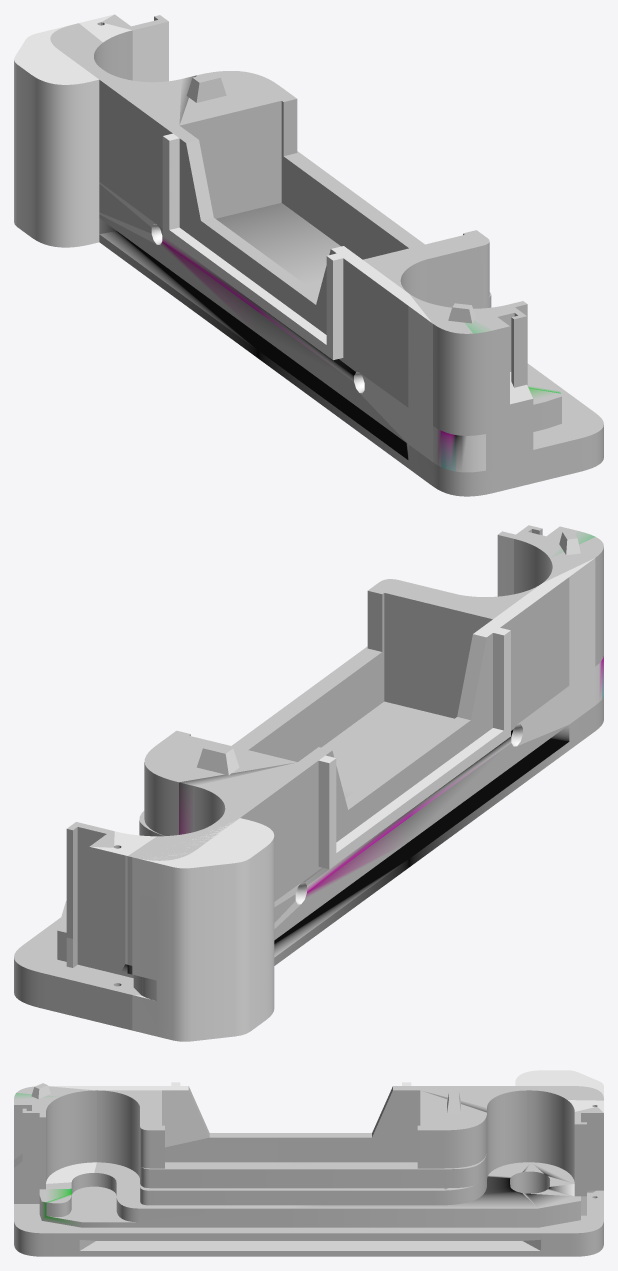
The model's file is BODY_bottom_ver2.FBX.
The picture shows the model from 3 angles, top to bottom: view 1: azimuth 30°, elevation 25°; view 2: azimuth 150°, elevation 25°; view 3: azimuth 270°, elevation 25°; orthographic projection. The views are drawn at different scales.
Parts seen in each view (by area): view 1: Main Body Bottom_var2; view 2: Main Body Bottom_var2; view 3: Main Body Bottom_var2.
Part boxes in pixels (x1,y1,x2,y2): Main Body Bottom_var2: [14, 14, 603, 496]; Main Body Bottom_var2: [14, 525, 603, 1041]; Main Body Bottom_var2: [14, 1070, 603, 1256].
Bounding box in the file's own units: 1.91 × 1.58 × 6.61.
